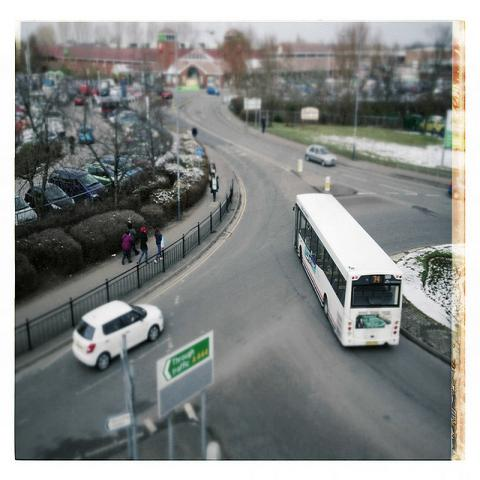bus: (293, 191, 404, 348)
car: (70, 298, 165, 372), (48, 167, 109, 204), (23, 183, 78, 218), (84, 160, 128, 183), (100, 154, 140, 175), (14, 195, 37, 226), (306, 145, 338, 166), (95, 79, 110, 99), (78, 126, 94, 144), (206, 84, 220, 96), (161, 88, 174, 99), (75, 96, 83, 104)
